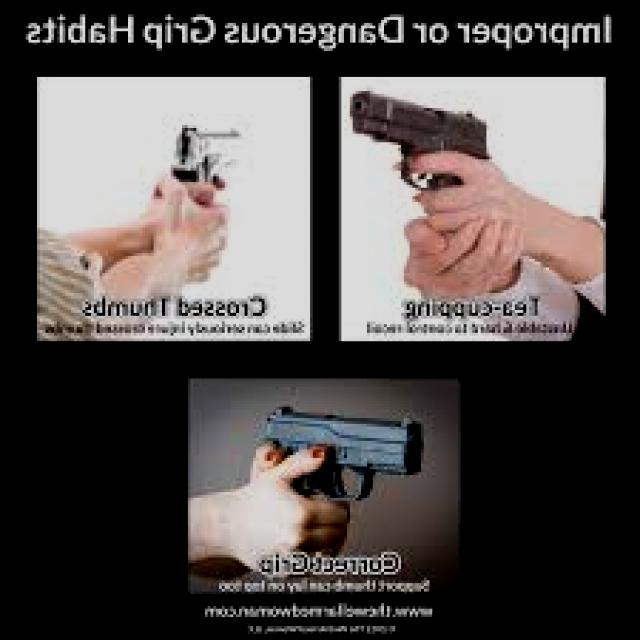pistol: (256, 395, 430, 515), (352, 85, 500, 202), (170, 120, 248, 194)
